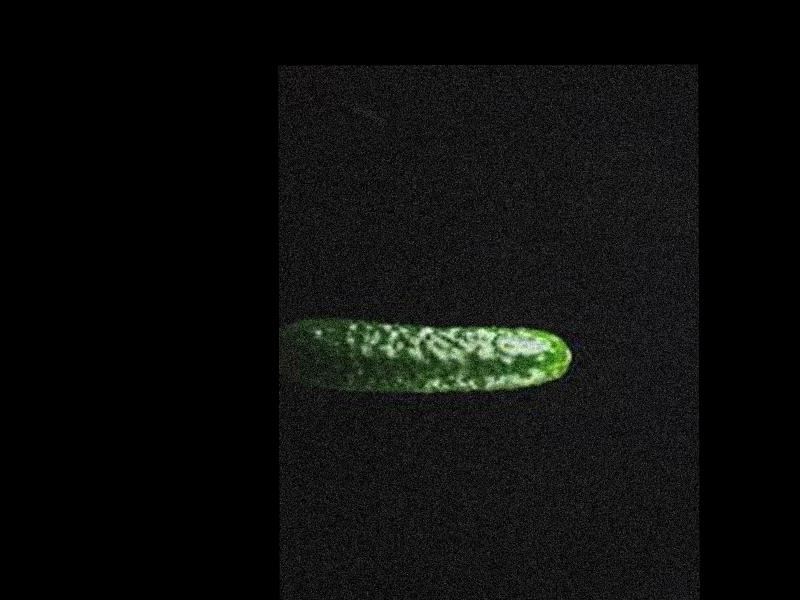Cucumber: (278, 316, 573, 393)
